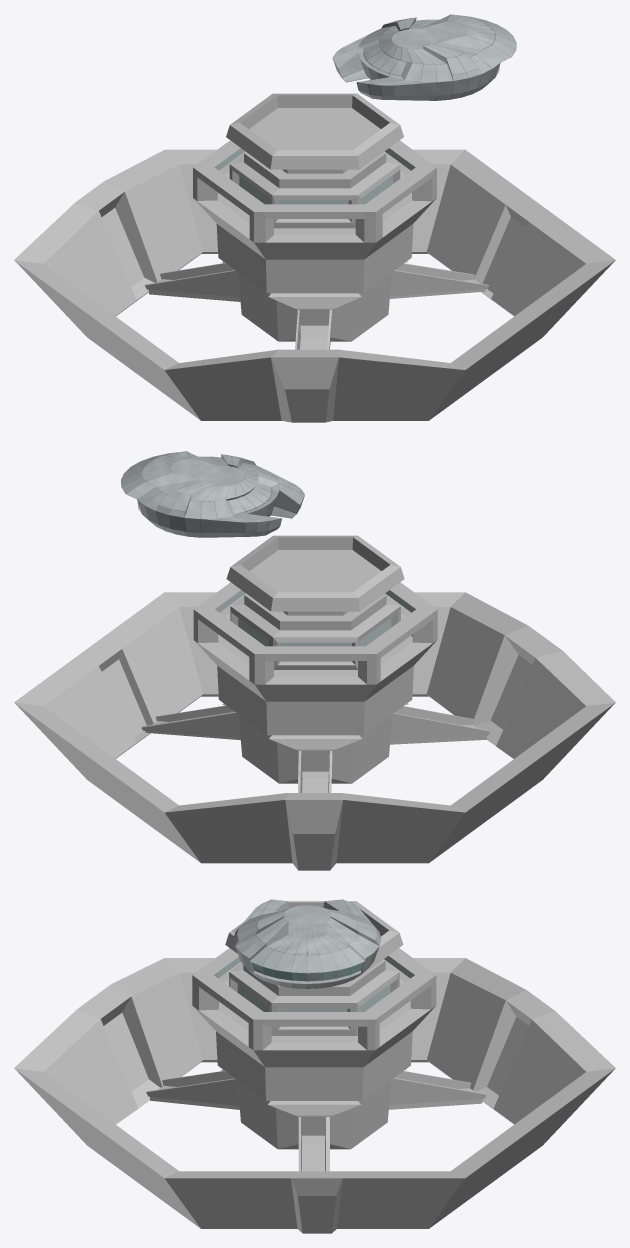
File: militaryECONOMY.fbx
The picture shows the model from 3 angles, top to bottom: view 1: azimuth 30°, elevation 25°; view 2: azimuth 150°, elevation 25°; view 3: azimuth 270°, elevation 25°; orthographic projection.
Visible parts, largest first — view 1: Building, Spaceship; view 2: Building, Spaceship; view 3: Building, Spaceship.
Part boxes in pixels (x1,y1,x2,y2): Building: [14, 93, 615, 422]; Spaceship: [332, 14, 516, 100]; Building: [14, 535, 615, 870]; Spaceship: [121, 451, 304, 537]; Building: [14, 901, 615, 1233]; Spaceship: [233, 899, 381, 988].
Size of the model in its own units: 14.49 by 8.58 by 16.73.
